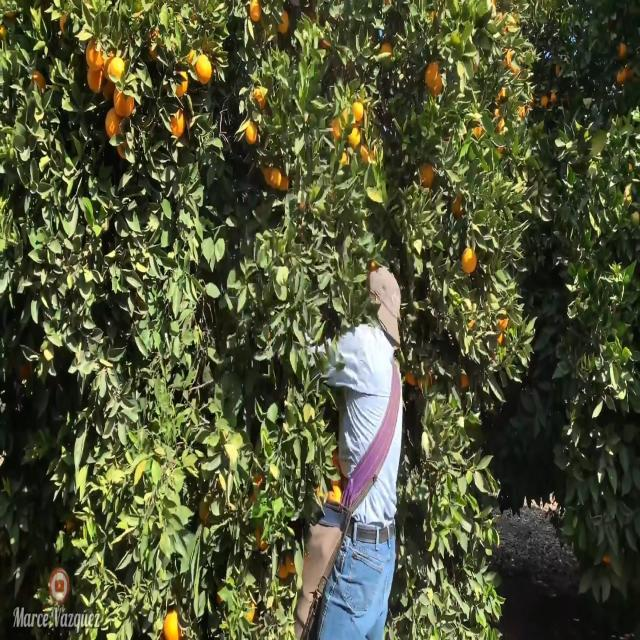Jeruk Sudah Matang: (104, 43, 128, 91), (85, 33, 109, 70), (195, 49, 214, 91)
